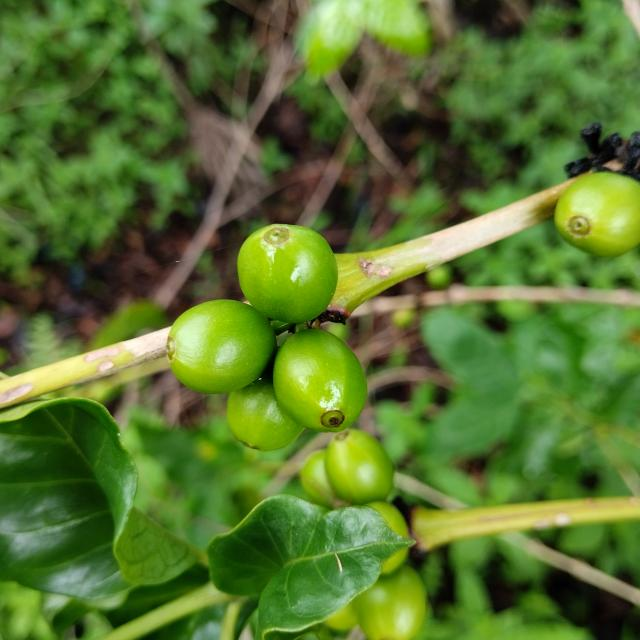green: (166, 300, 276, 394), (237, 224, 338, 324), (273, 329, 368, 433), (555, 171, 640, 257), (227, 372, 304, 451), (354, 566, 427, 640), (325, 430, 394, 505), (300, 450, 344, 510), (368, 502, 409, 538), (382, 550, 409, 575)
